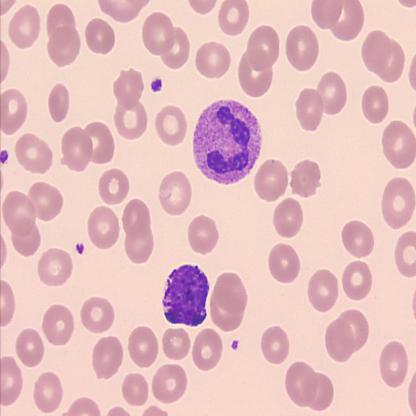Basophil: (160, 262, 212, 330)
